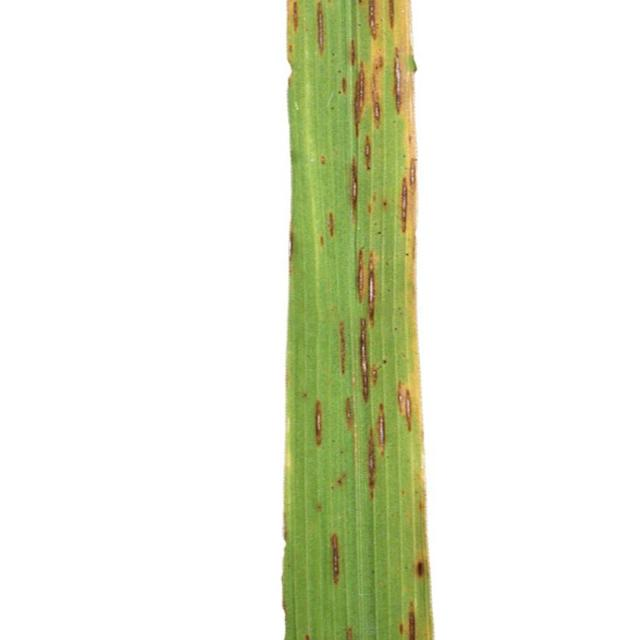Narrow brown: (224, 1, 448, 640)
